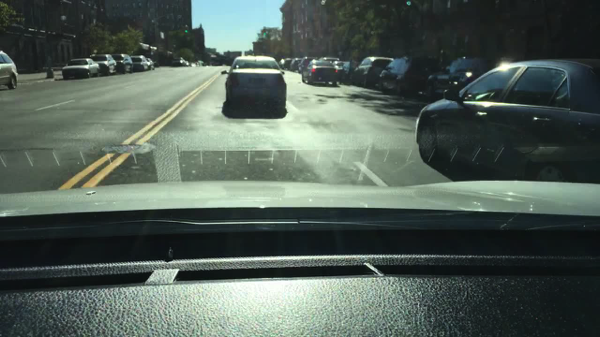car: (414, 57, 599, 183), (220, 54, 287, 114), (426, 57, 497, 102), (377, 55, 439, 97), (354, 56, 394, 88), (301, 58, 343, 87), (62, 58, 102, 81), (0, 50, 19, 90), (89, 53, 118, 76), (111, 53, 134, 74), (340, 61, 359, 86), (298, 57, 319, 74), (131, 55, 150, 73), (331, 60, 344, 81), (289, 58, 302, 73), (172, 56, 187, 68), (279, 57, 292, 70), (322, 57, 340, 66), (146, 57, 155, 70), (198, 60, 205, 66), (185, 60, 192, 66), (190, 61, 196, 67), (194, 61, 200, 66)
traffic light: (184, 26, 189, 34), (261, 29, 267, 35)
